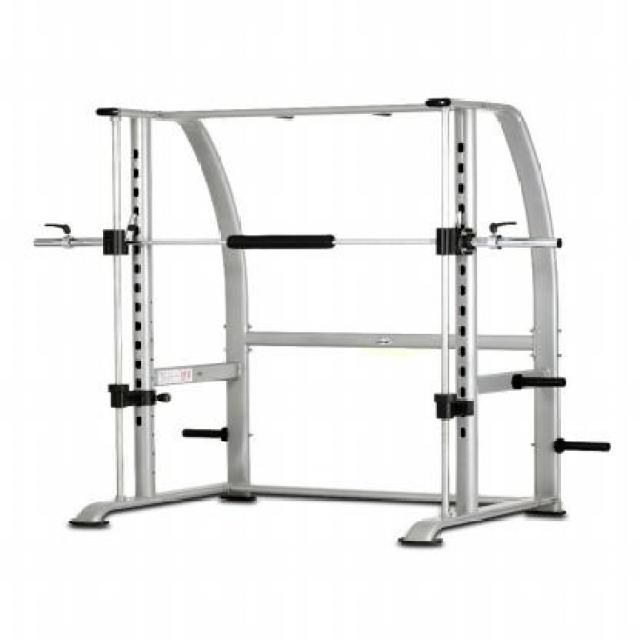smith machine: (32, 94, 612, 551)
